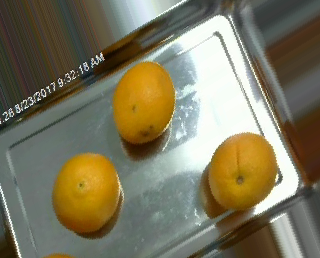Orange: (207, 132, 279, 211), (52, 152, 121, 232), (111, 61, 174, 144)
